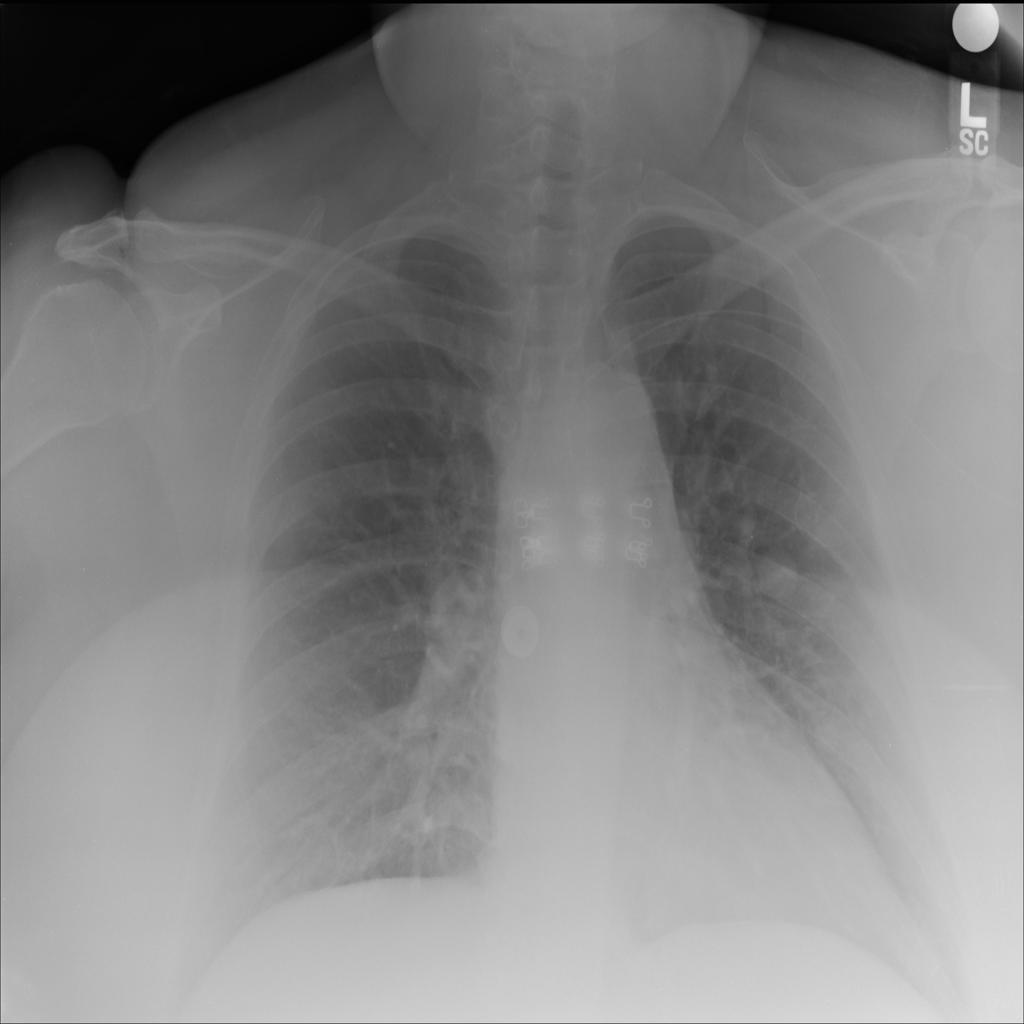nodule: (748, 539, 815, 616)
